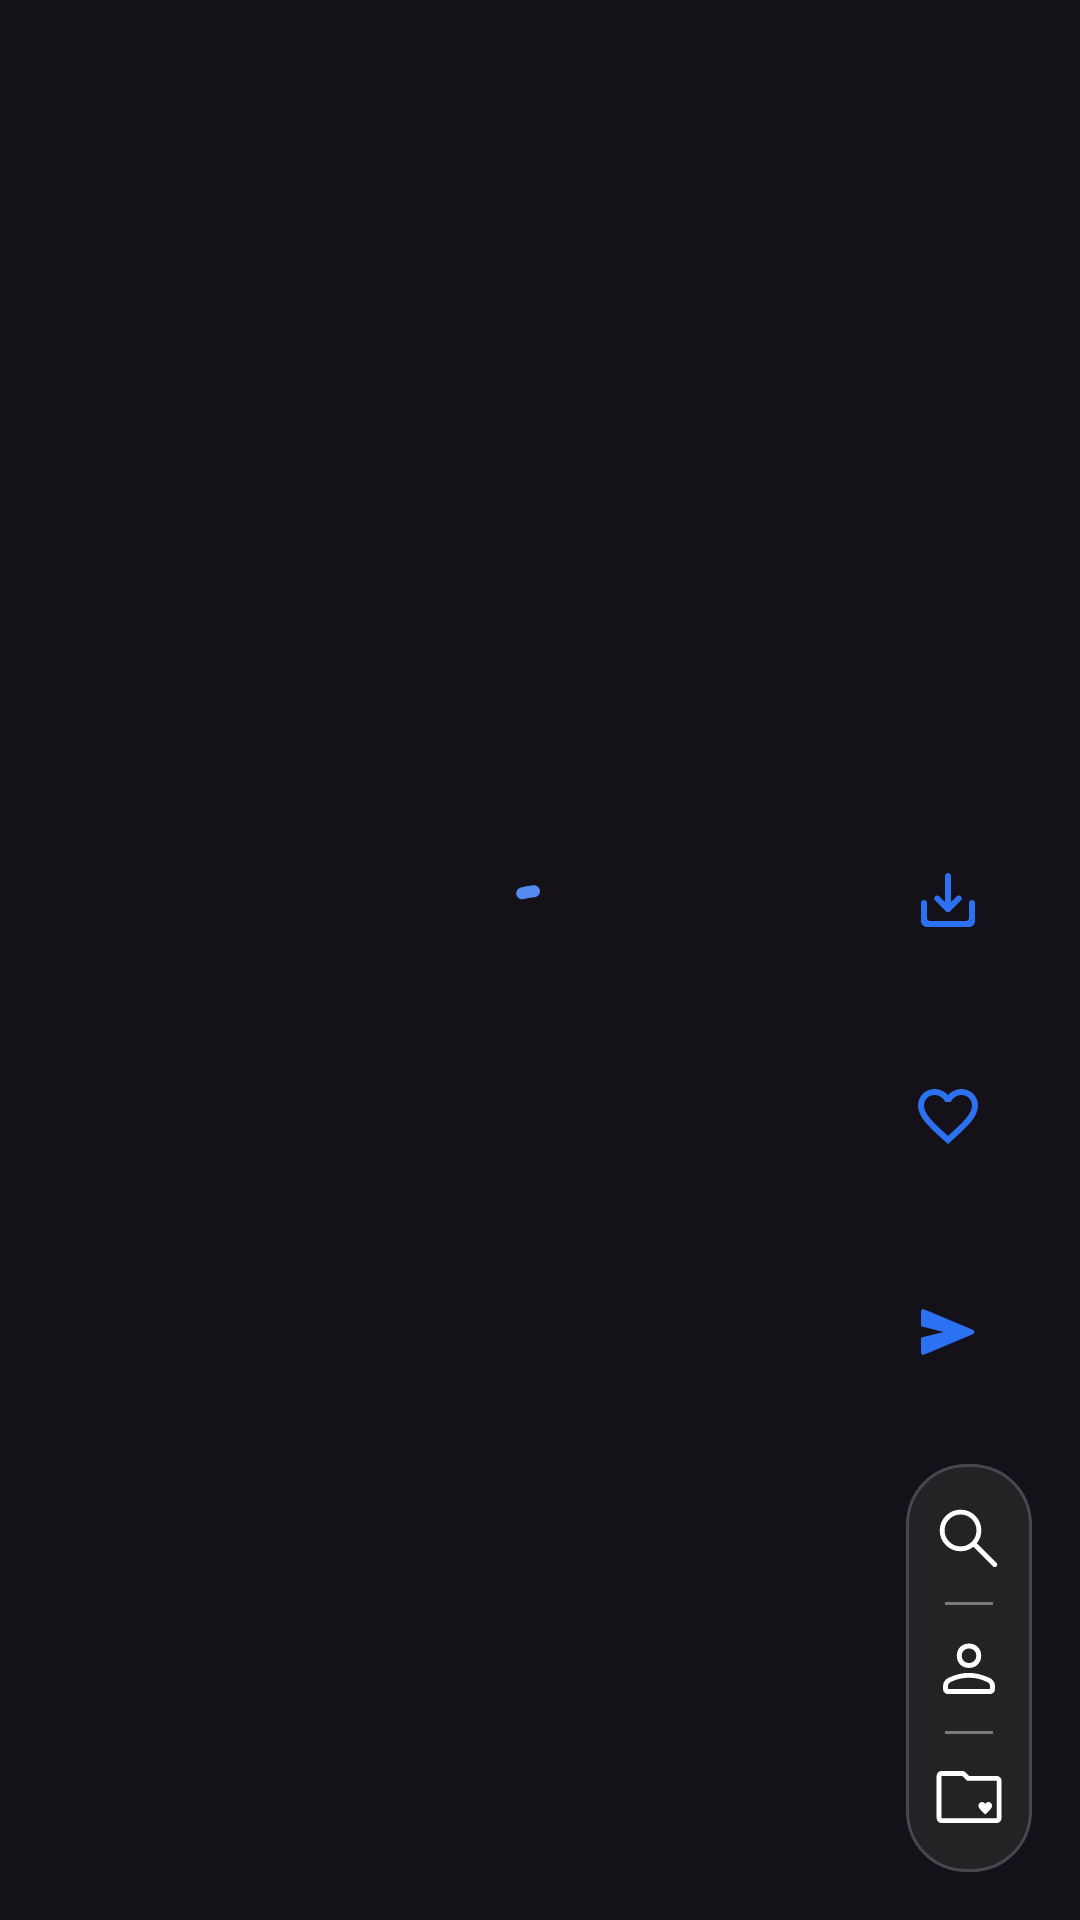

Named icons in this screenshot (1080px×1920px) and their centers, (x,y):
fav: (948,1116)
fav folder: (969,1797)
person: (969,1668)
save: (948,900)
search: (968,1538)
share: (948,1332)
